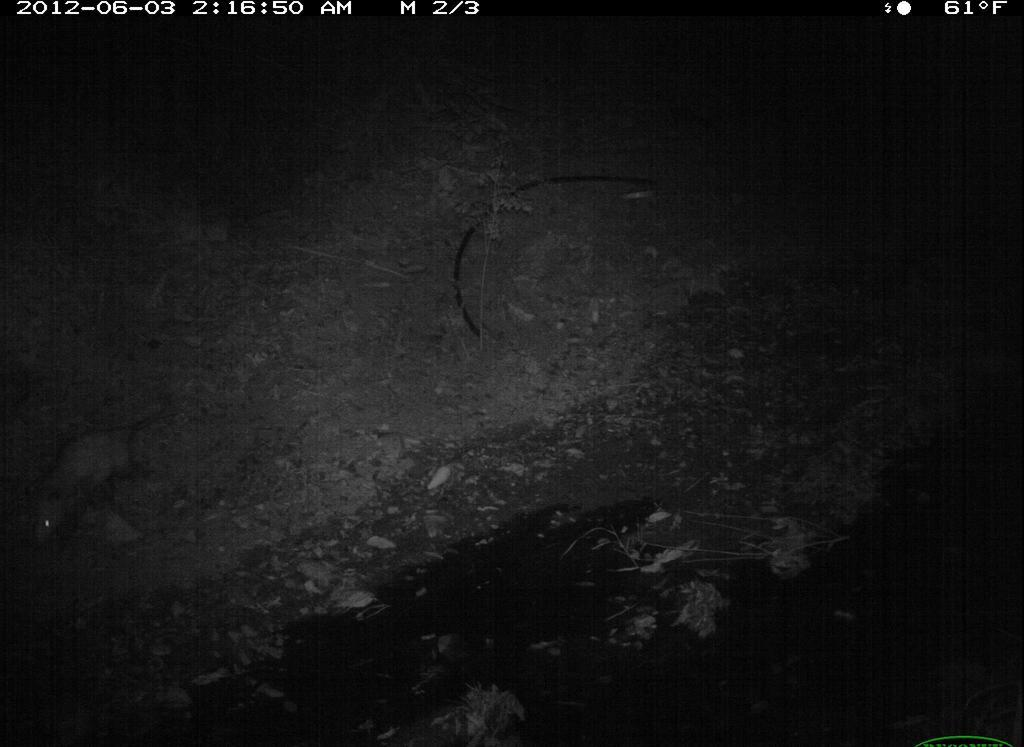opossum: (16, 390, 195, 551)
